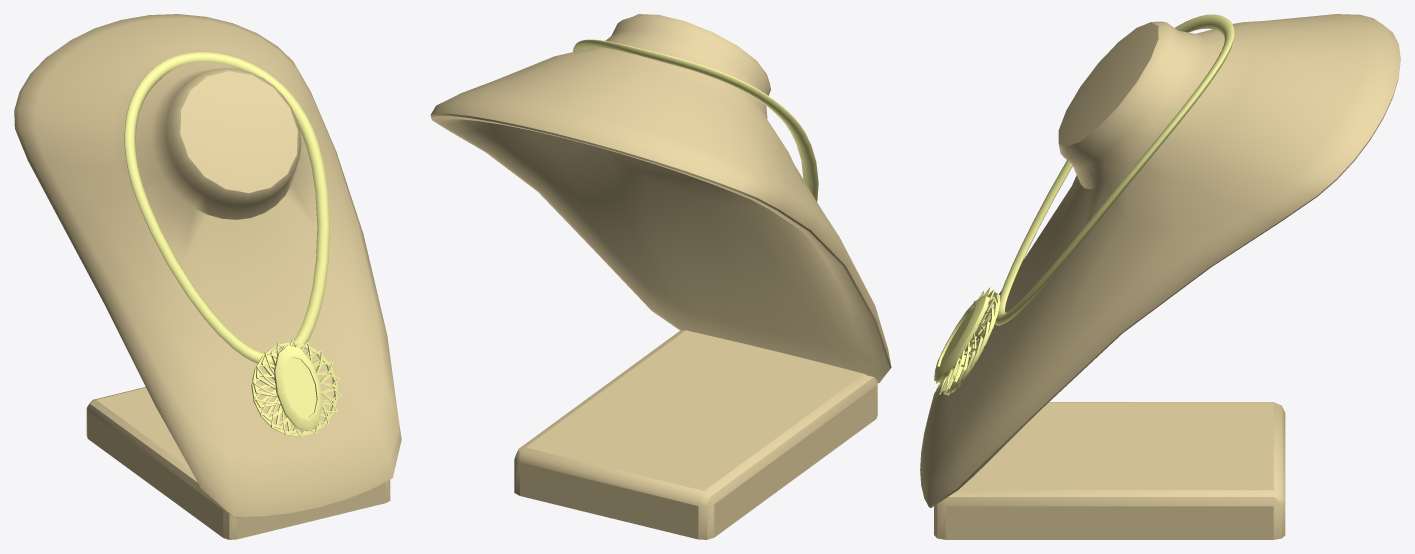
Rendered from Necklace_7.fbx.
3 renders of one model, left to right at view 1: azimuth 30°, elevation 25°; view 2: azimuth 150°, elevation 25°; view 3: azimuth 270°, elevation 25°, orthographic. The views are drawn at different scales.
Parts seen in each view (by area): view 1: SM_Stand_Necklace_1, SM_Necklace_3, SM_Cullon_15; view 2: SM_Stand_Necklace_1, SM_Necklace_3; view 3: SM_Stand_Necklace_1, SM_Necklace_3, SM_Cullon_15.
Boxes of the visible parts, x1,y1,x2,y2 form: SM_Stand_Necklace_1: (14, 14, 401, 539); SM_Necklace_3: (124, 52, 329, 365); SM_Cullon_15: (251, 339, 341, 437); SM_Stand_Necklace_1: (430, 14, 891, 539); SM_Necklace_3: (573, 39, 818, 201); SM_Stand_Necklace_1: (920, 14, 1400, 539); SM_Necklace_3: (994, 14, 1234, 325); SM_Cullon_15: (934, 287, 1000, 395).
Bounding box in the file's own units: 22.51 × 29.29 × 27.78.
